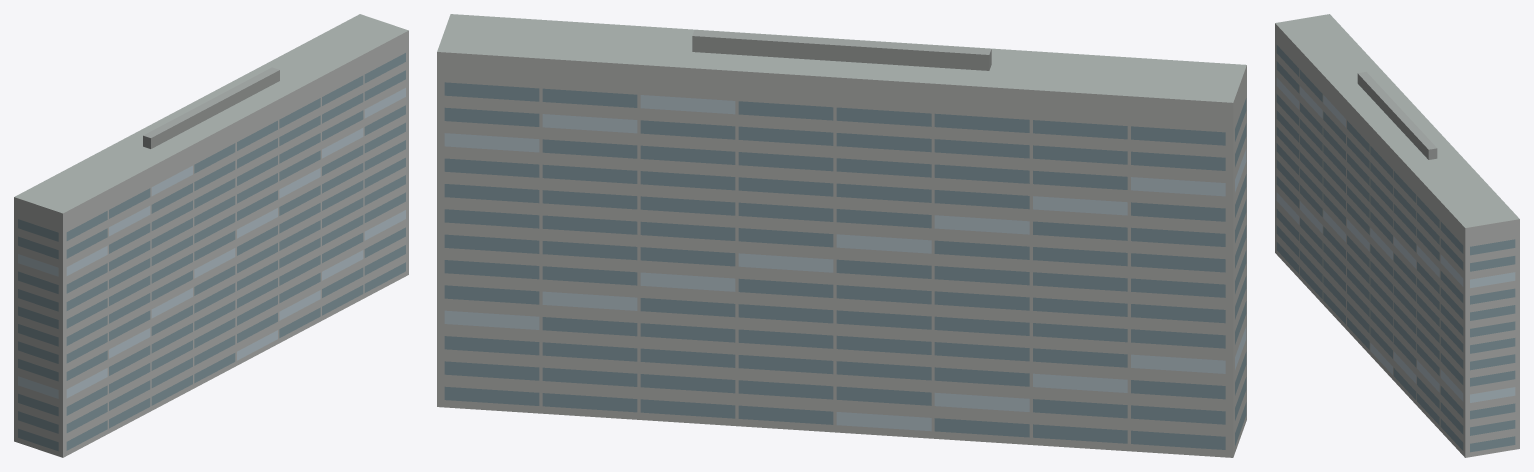
The model's file is fallback-daechi-eunma-7.glb.
The picture shows the model from 3 angles, left to right: view 1: azimuth 30°, elevation 25°; view 2: azimuth 150°, elevation 25°; view 3: azimuth 270°, elevation 25°; orthographic projection. The views are drawn at different scales.
Visible parts, largest first — view 1: fallback-daechi-eunma-7; view 2: fallback-daechi-eunma-7; view 3: fallback-daechi-eunma-7.
Boxes of the visible parts, x1,y1,x2,y2 form: fallback-daechi-eunma-7: (14, 14, 408, 457); fallback-daechi-eunma-7: (437, 14, 1246, 457); fallback-daechi-eunma-7: (1275, 14, 1519, 457).
Size of the model in its own units: 85.33 by 44.62 by 41.23.
